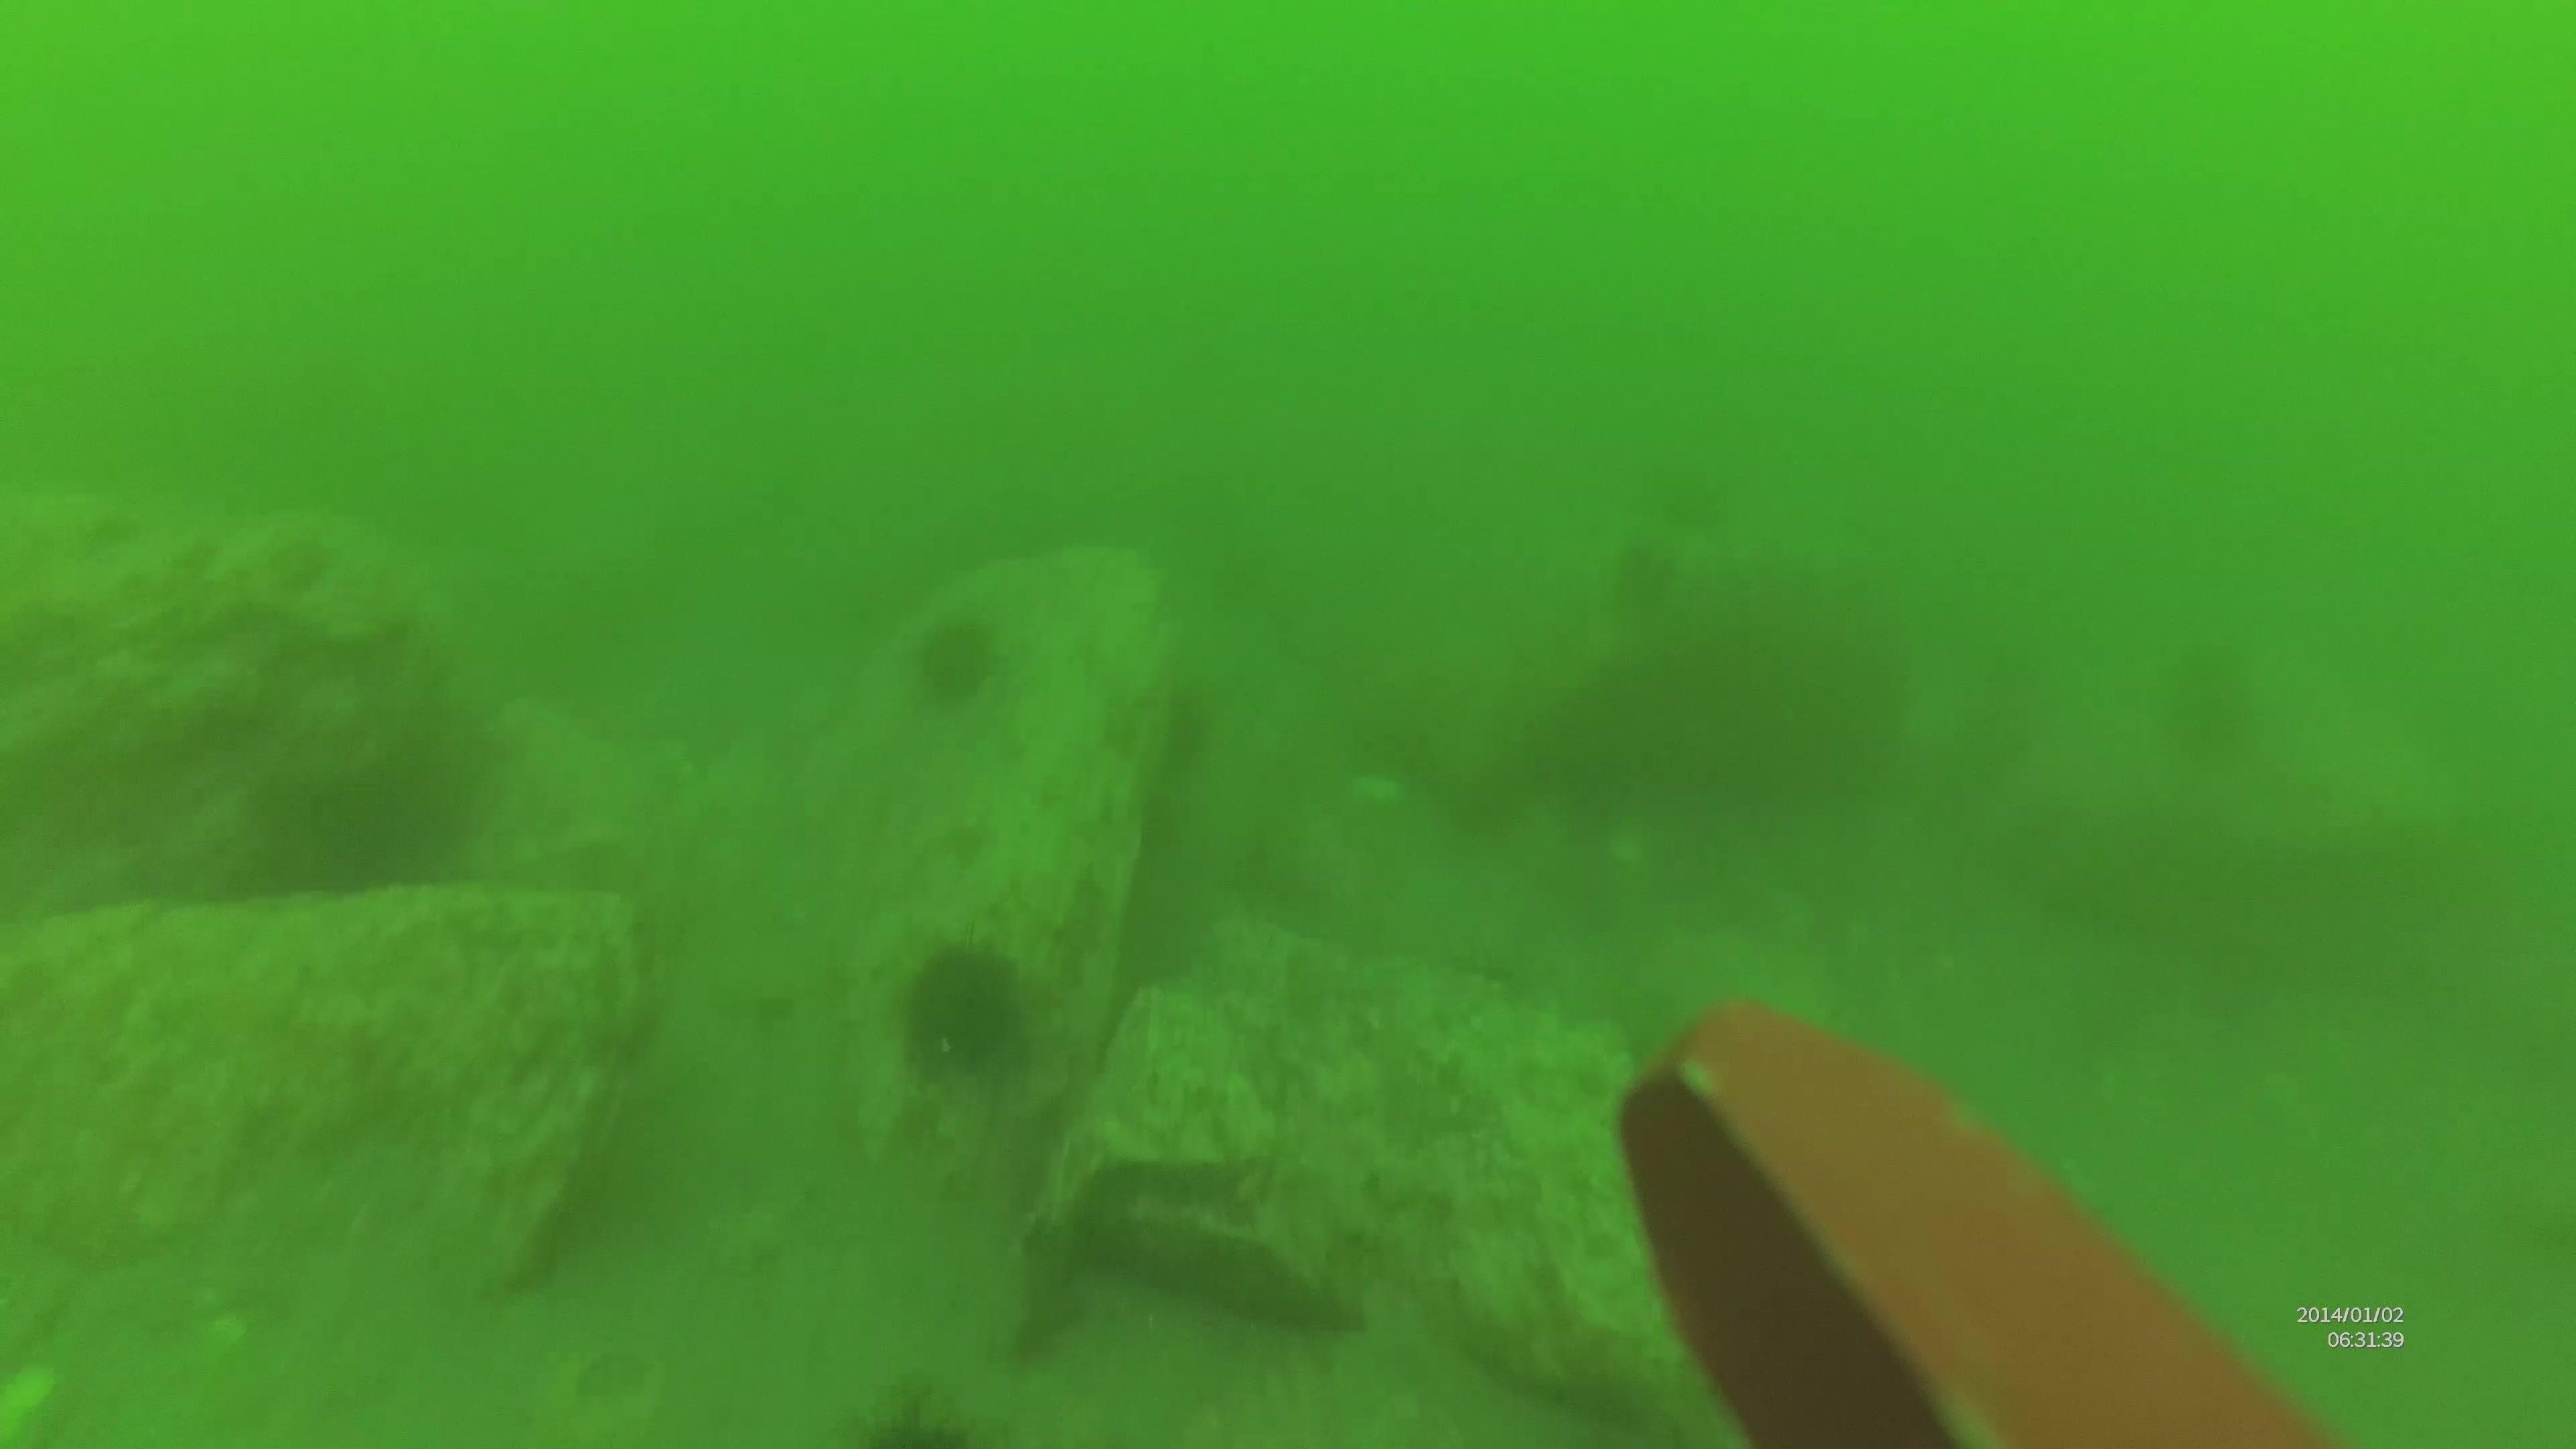echinus: (893, 934, 1033, 1083), (908, 609, 1008, 709)
